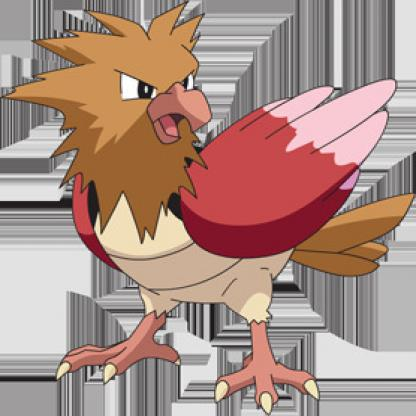Spearow: (26, 2, 410, 408)
